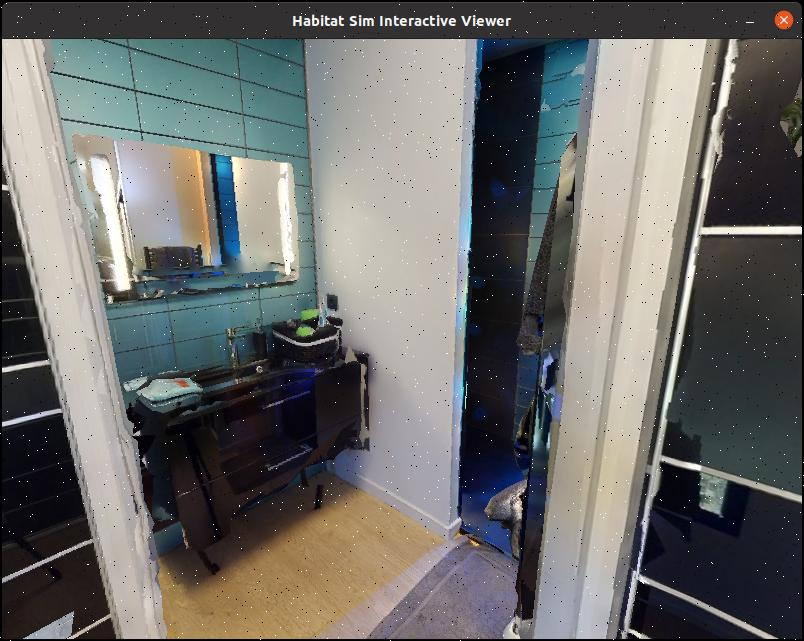door-frame: (0, 41, 674, 630)
sink: (183, 301, 296, 428)
